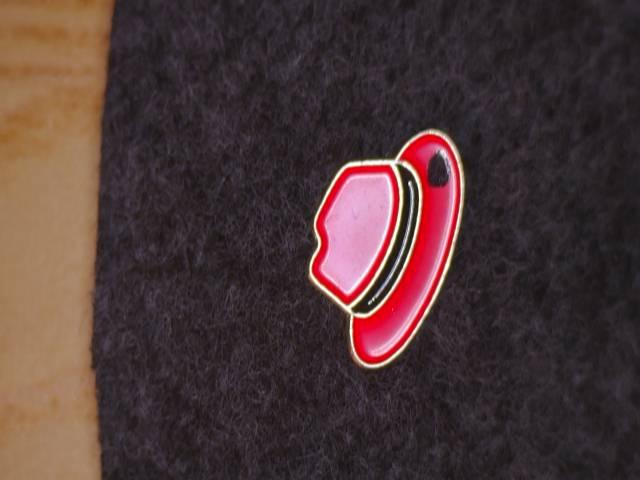Red-Hat: (288, 102, 487, 398)
Scratch: (416, 143, 472, 206)
